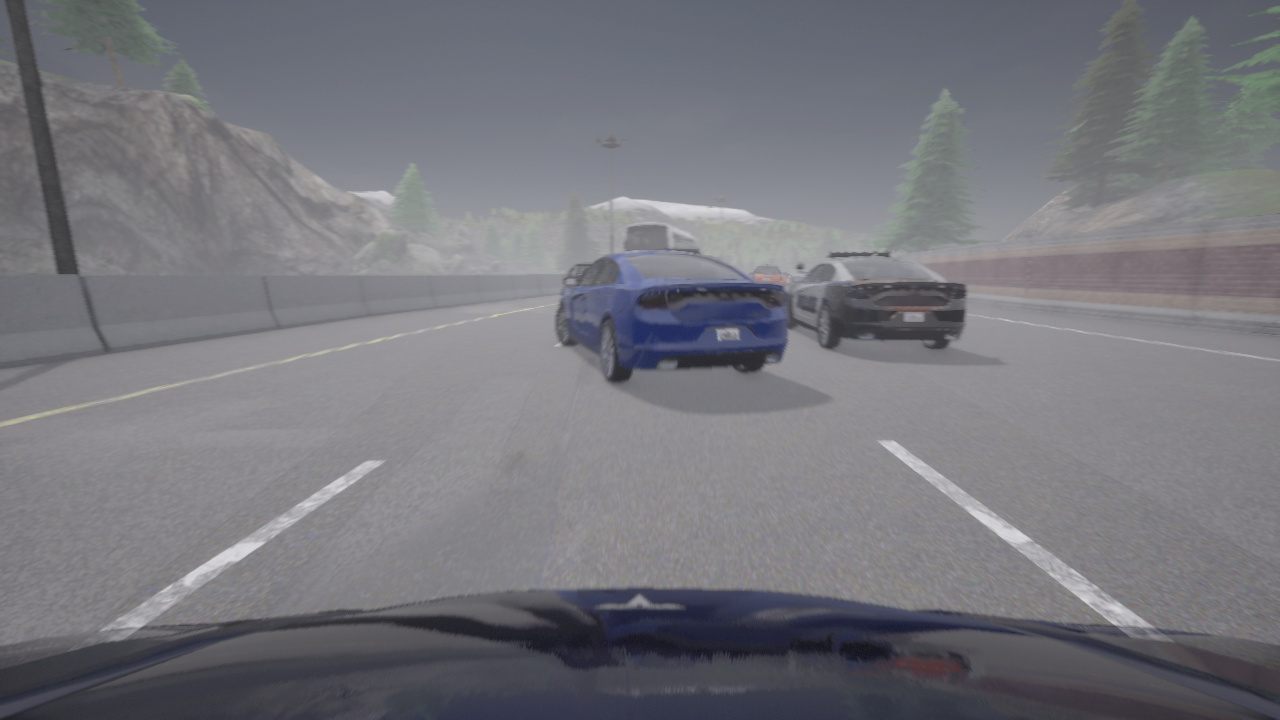cyclist: (0, 588, 1279, 719), (556, 246, 787, 382), (786, 250, 967, 349), (622, 222, 702, 254), (562, 263, 592, 294), (750, 266, 784, 285), (649, 247, 700, 254), (785, 277, 789, 284)
